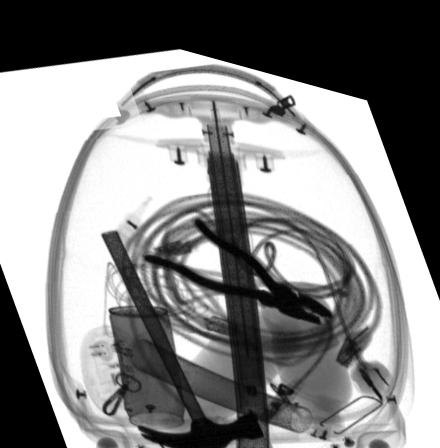Hammer: (99, 223, 263, 442)
Pliers: (139, 204, 332, 306)
